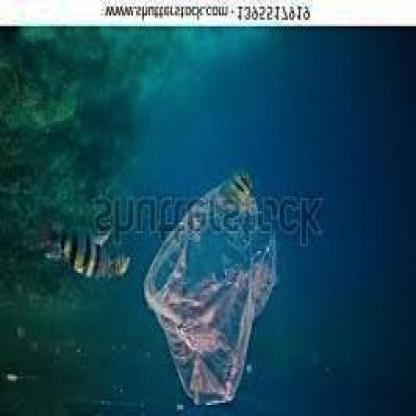pbag: (132, 180, 282, 410)
